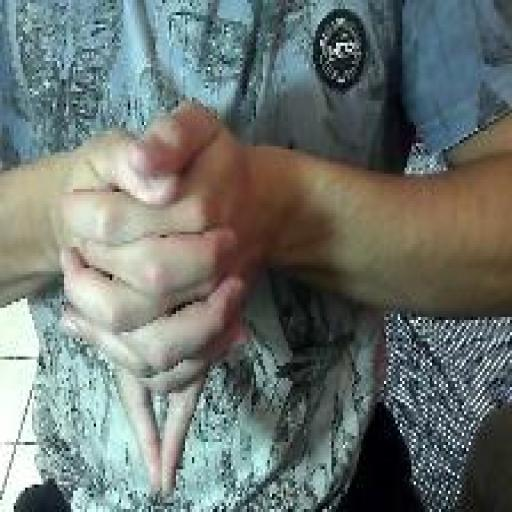Tatsu -dragon-: (57, 91, 254, 500)
